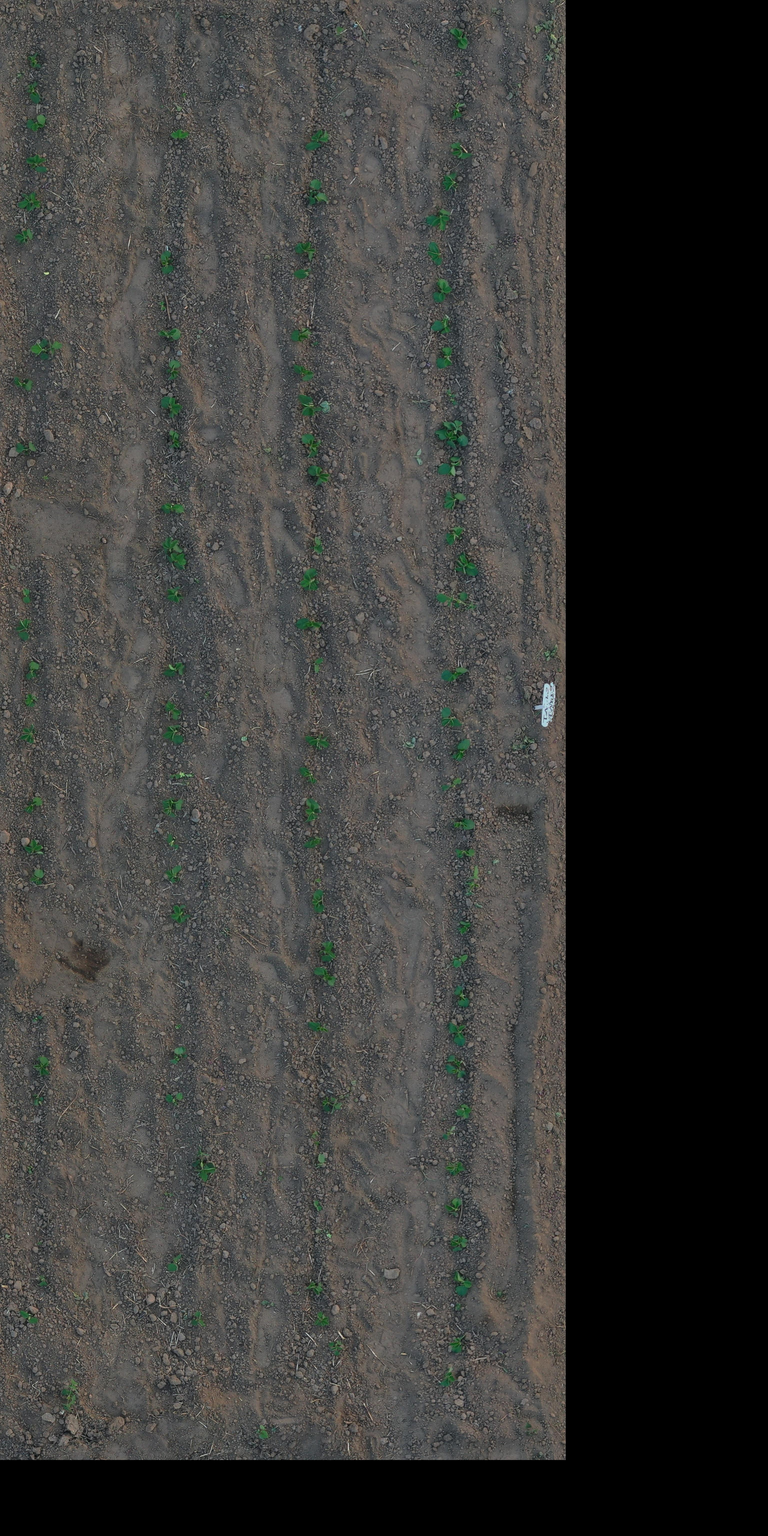s: (191, 1148, 217, 1182), (436, 591, 478, 611), (30, 338, 63, 360), (443, 420, 469, 447), (60, 1378, 79, 1413), (454, 551, 479, 576), (425, 208, 451, 232), (297, 394, 322, 416), (443, 490, 467, 512), (305, 129, 330, 150), (301, 433, 322, 458), (308, 179, 328, 205), (160, 396, 182, 419), (441, 706, 464, 728), (432, 278, 452, 303), (437, 456, 462, 476), (453, 1270, 472, 1296), (435, 428, 457, 450), (162, 796, 184, 818), (307, 465, 330, 486), (300, 568, 320, 592), (451, 738, 471, 762), (18, 191, 40, 212), (294, 241, 316, 262), (162, 724, 184, 745), (313, 966, 336, 986), (448, 1022, 466, 1047), (440, 667, 469, 682), (427, 241, 444, 266), (305, 798, 322, 823), (430, 314, 451, 334), (170, 904, 191, 924), (450, 142, 473, 160), (450, 27, 468, 50), (304, 735, 329, 751), (444, 1197, 463, 1218), (26, 154, 48, 172), (161, 536, 183, 554), (321, 1096, 343, 1114), (292, 364, 315, 381), (436, 346, 453, 369), (454, 984, 470, 1008), (445, 526, 464, 546), (19, 723, 37, 744), (294, 617, 323, 630), (15, 618, 32, 640), (22, 797, 44, 814), (319, 940, 336, 962), (26, 114, 46, 132), (166, 552, 186, 570), (164, 700, 182, 720), (298, 766, 318, 784), (442, 170, 458, 192), (160, 250, 174, 275), (311, 888, 325, 913), (26, 81, 41, 104), (162, 662, 185, 677), (168, 1046, 187, 1064), (448, 1334, 466, 1353), (33, 1056, 50, 1076), (158, 328, 182, 342), (440, 1366, 456, 1387), (290, 327, 312, 342), (164, 865, 182, 883), (24, 839, 44, 855), (166, 360, 181, 381), (444, 1161, 465, 1176), (444, 1064, 466, 1078), (450, 1234, 468, 1251), (14, 228, 33, 244), (24, 661, 40, 680), (454, 1103, 473, 1119), (167, 585, 184, 602), (160, 502, 184, 514), (14, 376, 33, 391), (167, 1253, 182, 1272), (19, 1310, 39, 1324), (15, 442, 36, 455), (441, 778, 462, 791), (307, 1020, 328, 1033), (313, 1310, 329, 1327), (302, 836, 324, 848), (168, 429, 181, 449), (292, 267, 312, 280), (190, 1311, 206, 1327), (328, 1340, 344, 1356), (306, 1281, 323, 1296), (452, 102, 466, 120), (309, 536, 323, 554), (454, 818, 475, 830), (165, 1092, 183, 1106), (29, 869, 44, 885), (166, 834, 180, 850), (28, 52, 41, 69), (455, 848, 476, 858), (453, 954, 468, 968), (442, 1125, 456, 1140), (311, 657, 324, 673), (24, 694, 38, 708), (447, 1055, 463, 1067), (170, 129, 189, 139), (315, 1153, 325, 1168), (22, 588, 30, 604), (460, 923, 471, 934), (312, 1200, 322, 1212), (39, 1274, 48, 1287), (34, 1096, 44, 1106), (446, 389, 457, 398), (169, 773, 181, 780), (159, 301, 166, 311), (32, 1015, 42, 1022), (450, 397, 458, 405), (27, 1165, 34, 1174), (311, 1130, 318, 1139), (455, 1303, 462, 1311), (41, 474, 49, 480), (310, 341, 318, 347), (174, 1024, 182, 1029), (32, 1093, 39, 1098), (314, 1141, 320, 1146), (37, 1241, 42, 1245)
